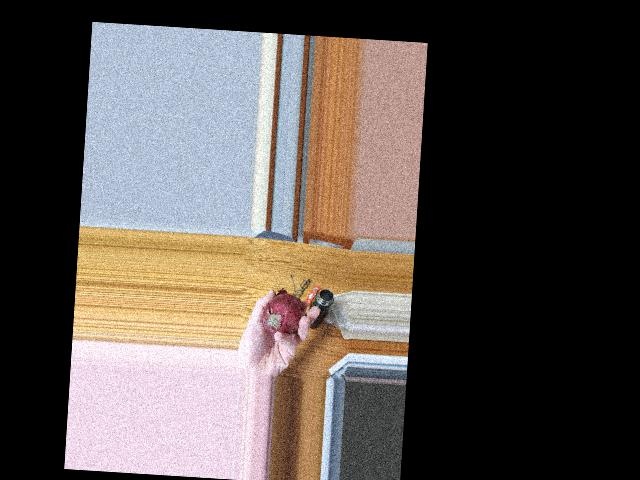onion: (257, 295, 302, 340)
